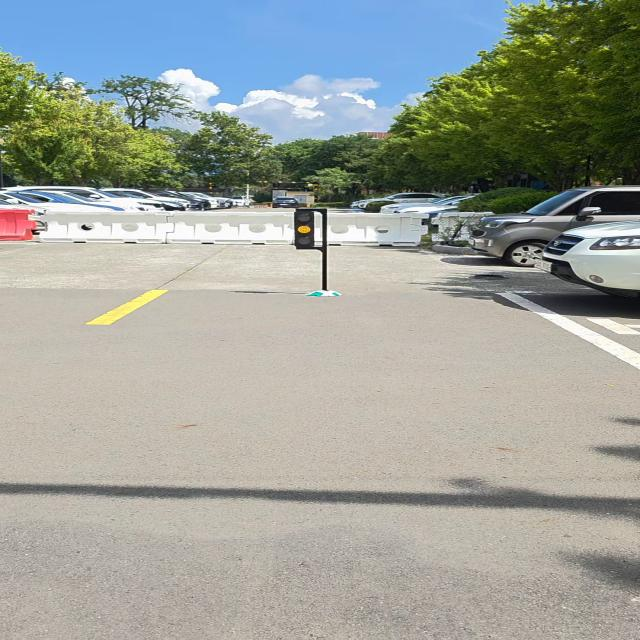yellow: (293, 211, 315, 248)
